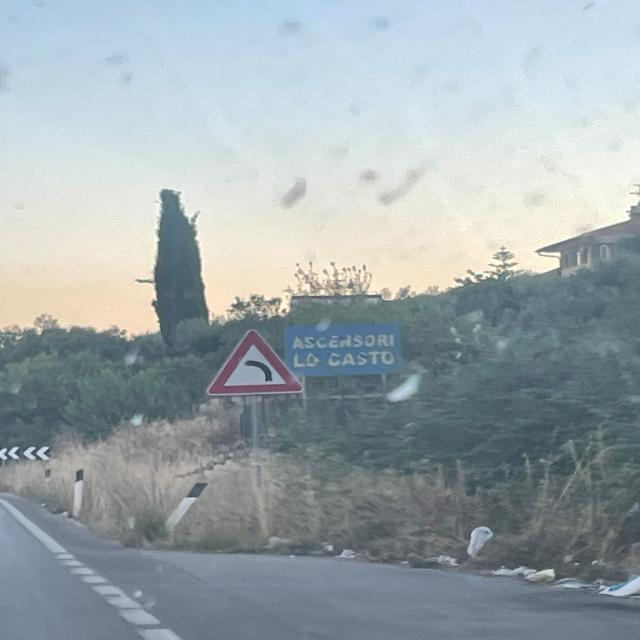warn_left_curve: (206, 329, 305, 397)
